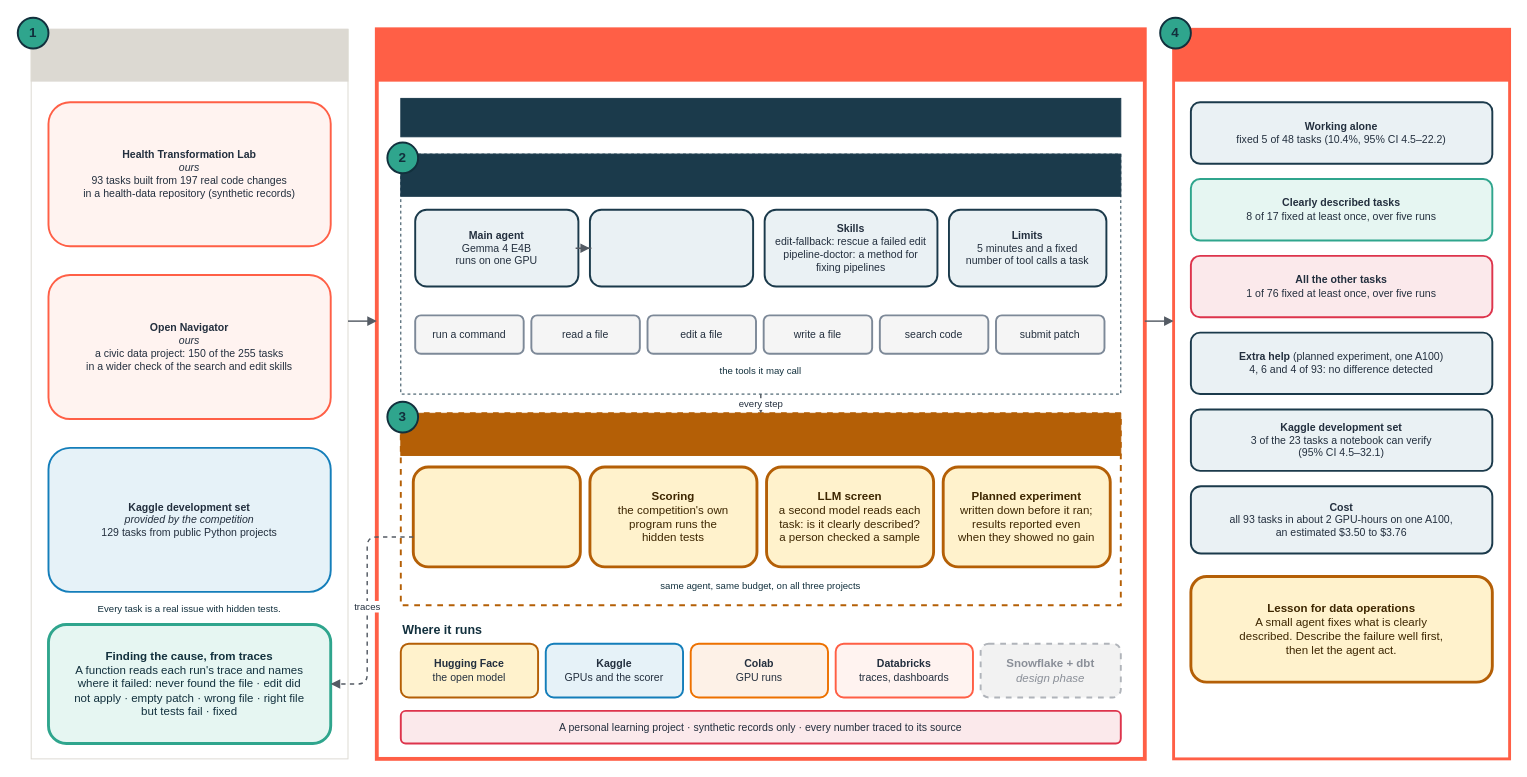
Some shapes in this 1527 by 777 pixel diagram are drawn without their labels. Here are the shapes that lost their labels. From the top down, the box of each, then its label:
(30, 28, 348, 81): Three projects it works on
(376, 28, 1145, 81): Developer coding agent
(1173, 28, 1510, 81): What it showed
(400, 97, 1121, 137): Reads the issue → finds the code → edits it → runs the tests → submits a patch
(400, 153, 1121, 196): The agent: one small open model, one configuration file
(588, 208, 754, 287): Helper agent read-only code analyzer the main agent can ask
(400, 412, 1121, 456): How it is watched and scored
(411, 465, 581, 568): Traces every step recorded in MLflow; moving into Unity Catalog tables
